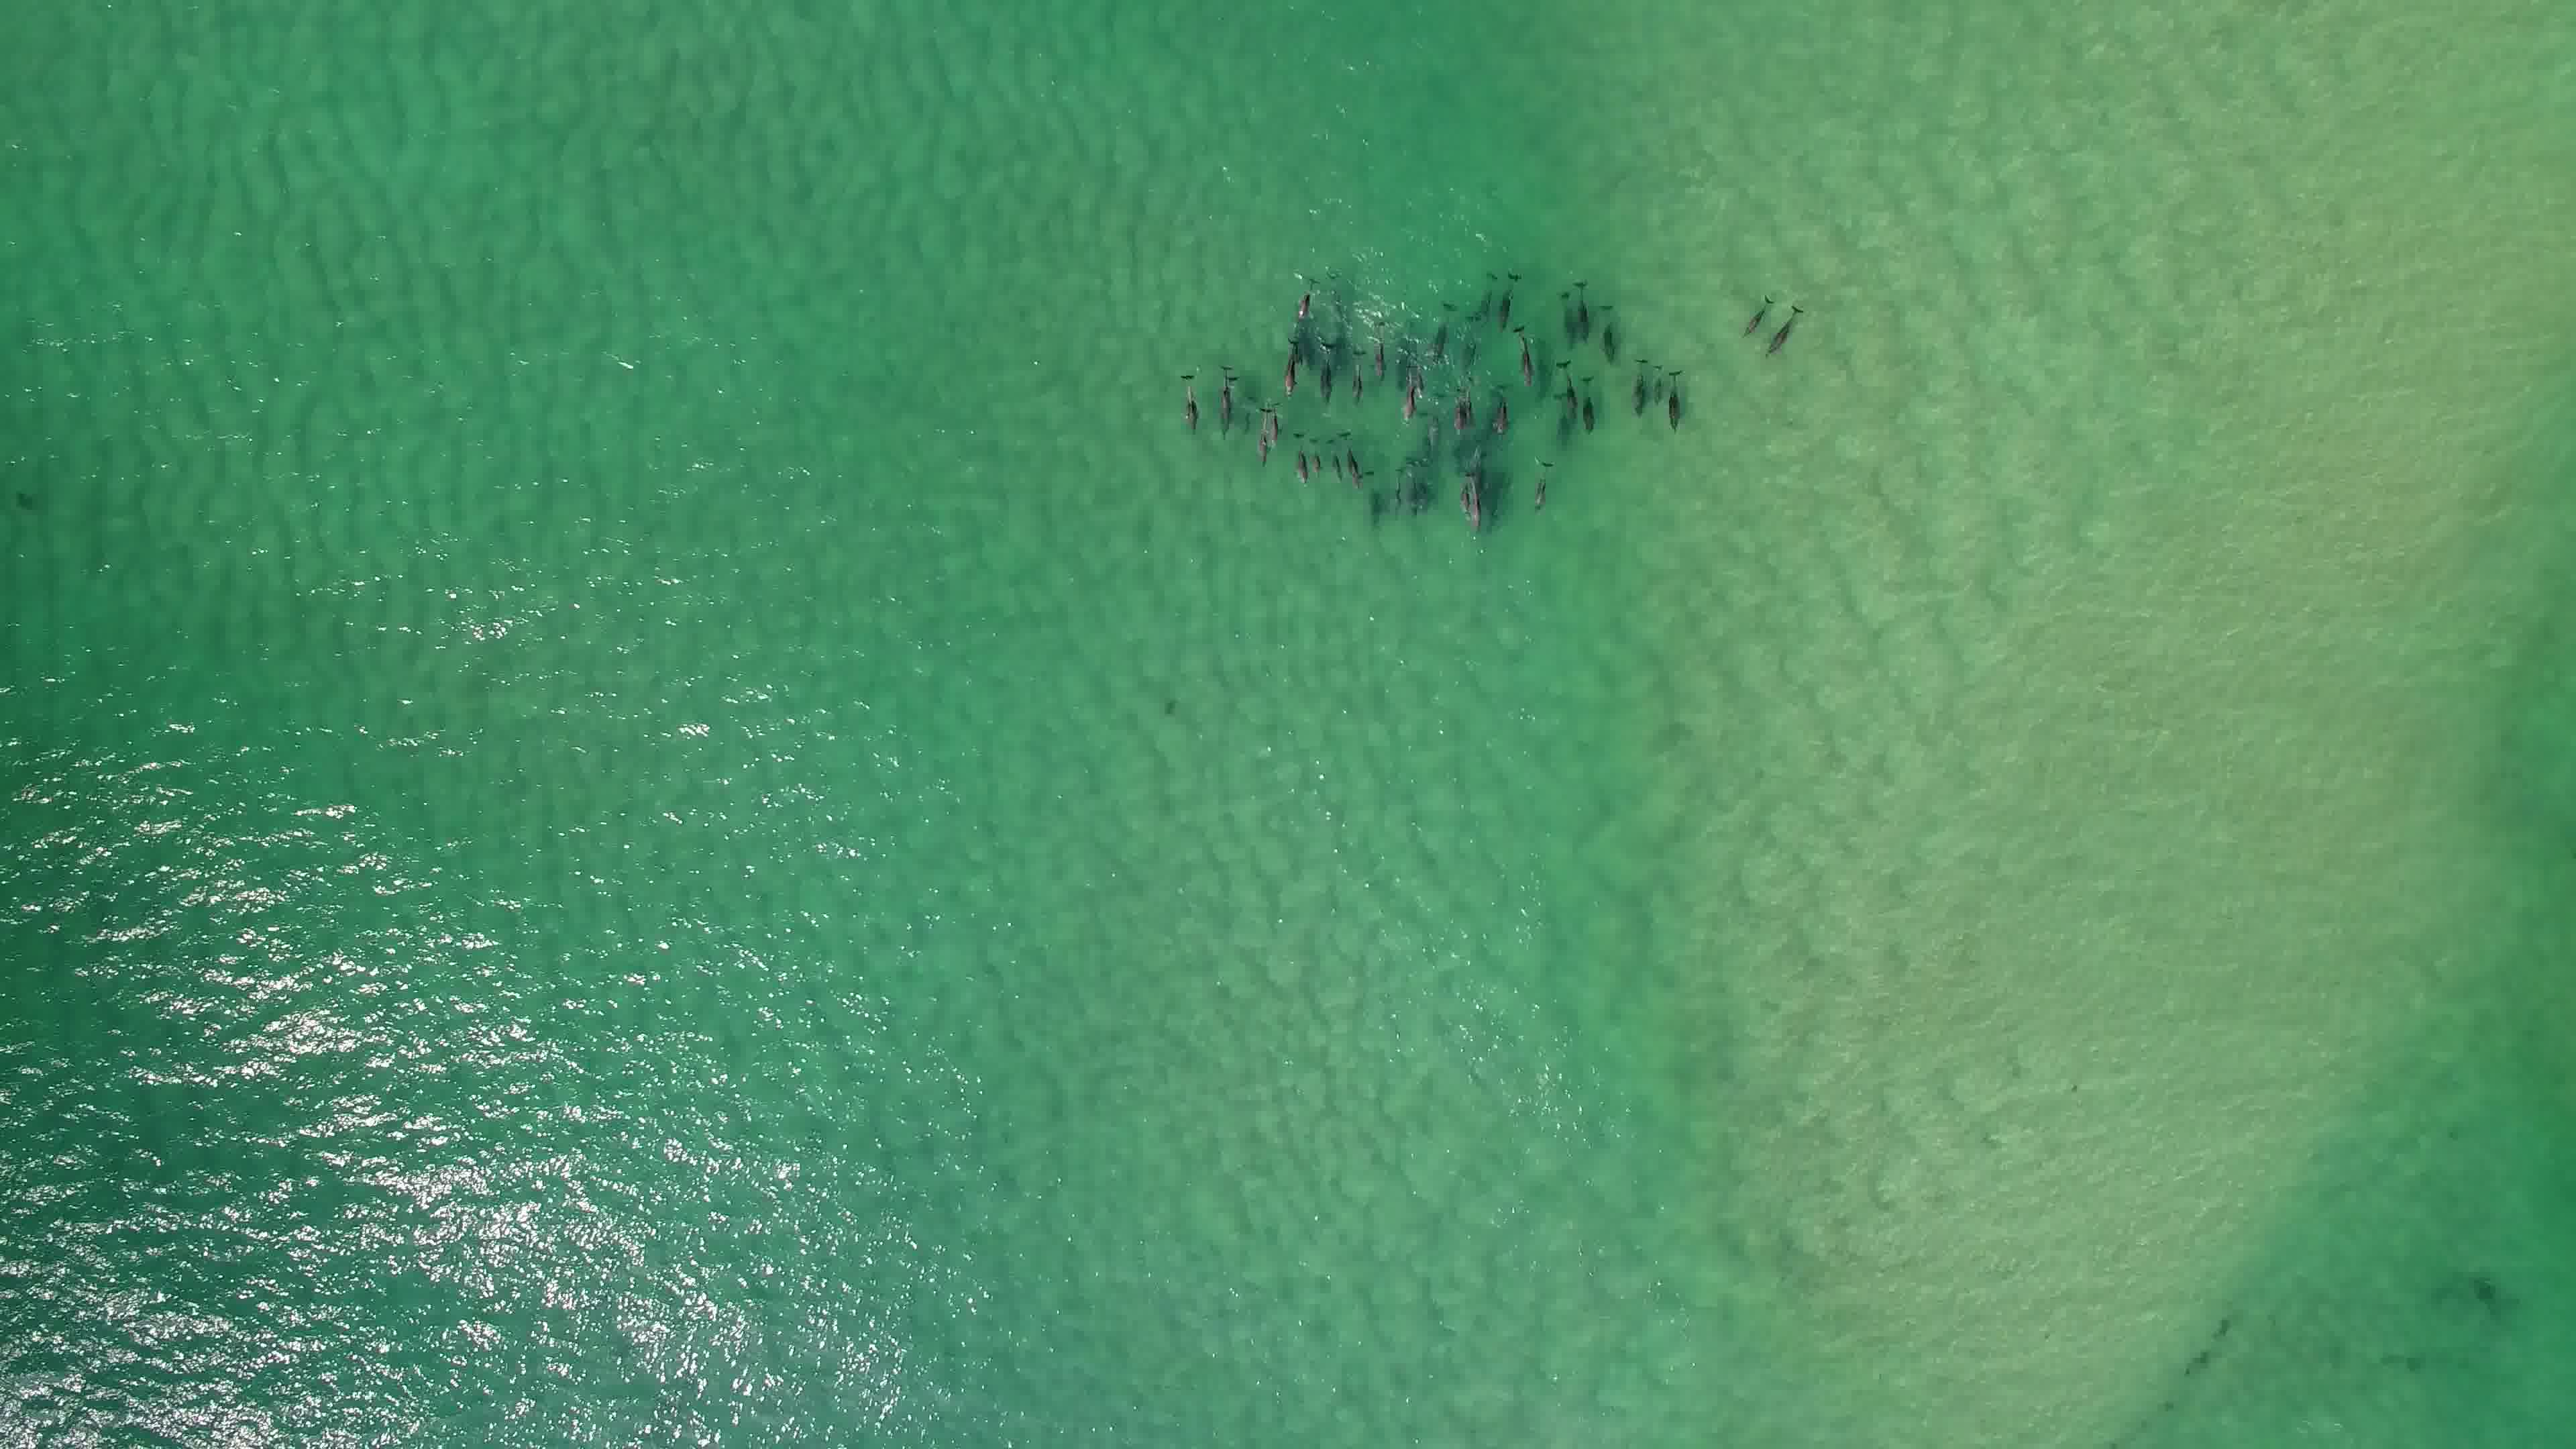dolphin: (1750, 295, 1813, 357), (1658, 361, 1702, 432), (1417, 287, 1456, 366), (1205, 356, 1238, 441), (1506, 317, 1543, 391), (1619, 347, 1656, 419), (1522, 444, 1557, 518), (1566, 269, 1599, 347), (1169, 363, 1203, 437), (1729, 283, 1775, 336), (1334, 423, 1369, 490), (1550, 352, 1582, 426), (1283, 269, 1322, 329), (1307, 336, 1334, 416), (1272, 333, 1306, 395), (1362, 317, 1392, 386), (1387, 458, 1422, 517), (1552, 274, 1580, 343), (1246, 389, 1269, 474), (1594, 290, 1621, 363), (1263, 395, 1292, 460), (1483, 384, 1516, 439), (1573, 366, 1598, 435), (1283, 430, 1311, 490), (1343, 336, 1368, 403), (1396, 357, 1421, 421), (1465, 458, 1484, 538), (1458, 357, 1481, 423), (1320, 428, 1345, 487), (1445, 377, 1470, 433), (1299, 423, 1323, 478), (1410, 350, 1430, 410), (1454, 471, 1477, 517)
